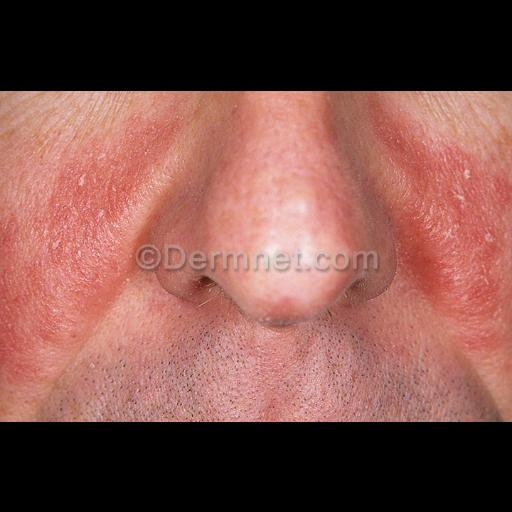Skin_Lesion: (0, 169, 120, 335), (394, 195, 512, 339), (367, 98, 473, 190)
